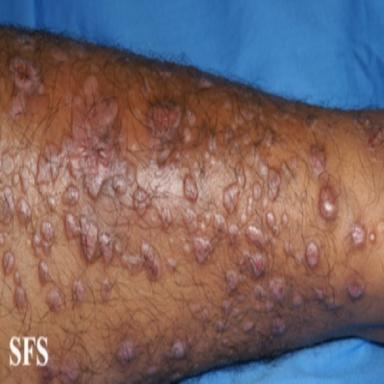Epidermolysis-Bullosa-Pruriginosa: (36, 96, 120, 197), (65, 213, 128, 262), (10, 56, 43, 118), (149, 101, 181, 164), (249, 146, 280, 200), (121, 242, 161, 280), (33, 221, 55, 256), (239, 251, 264, 278), (319, 185, 337, 219), (13, 166, 35, 193), (353, 112, 378, 133), (308, 146, 325, 176), (347, 272, 365, 300), (0, 187, 14, 223), (223, 183, 239, 214), (133, 186, 150, 215), (14, 270, 26, 310), (193, 237, 211, 263), (116, 340, 135, 363), (246, 226, 264, 249), (284, 242, 302, 264), (325, 294, 347, 312), (184, 174, 198, 202), (62, 183, 79, 206), (269, 278, 285, 302), (17, 198, 31, 225), (305, 242, 319, 268), (266, 211, 280, 237), (351, 223, 366, 247), (160, 202, 173, 229), (47, 288, 62, 311), (183, 209, 197, 233), (83, 74, 97, 98), (73, 280, 85, 306), (214, 214, 227, 238), (228, 223, 241, 247), (222, 300, 239, 318), (171, 339, 186, 359), (367, 130, 384, 147), (38, 260, 50, 284), (235, 109, 253, 125), (3, 251, 14, 274), (272, 318, 286, 336), (226, 270, 238, 291), (101, 278, 111, 303), (235, 162, 245, 187), (113, 175, 126, 194), (2, 154, 14, 174), (51, 47, 67, 62), (127, 162, 136, 186), (305, 113, 317, 129), (313, 287, 324, 302), (243, 319, 254, 334), (264, 130, 273, 148), (186, 110, 196, 126), (253, 182, 261, 201), (254, 284, 264, 299), (215, 320, 227, 332), (47, 195, 56, 211), (167, 258, 177, 272), (199, 78, 213, 88), (209, 134, 216, 153), (247, 195, 253, 217), (293, 294, 302, 307), (184, 128, 191, 144), (265, 300, 274, 312), (129, 141, 138, 152), (281, 213, 288, 227), (199, 221, 206, 234), (263, 195, 269, 210), (241, 210, 247, 225), (184, 243, 191, 255), (205, 211, 211, 225), (369, 231, 376, 243), (169, 237, 174, 250), (0, 233, 5, 246), (210, 155, 215, 166)
